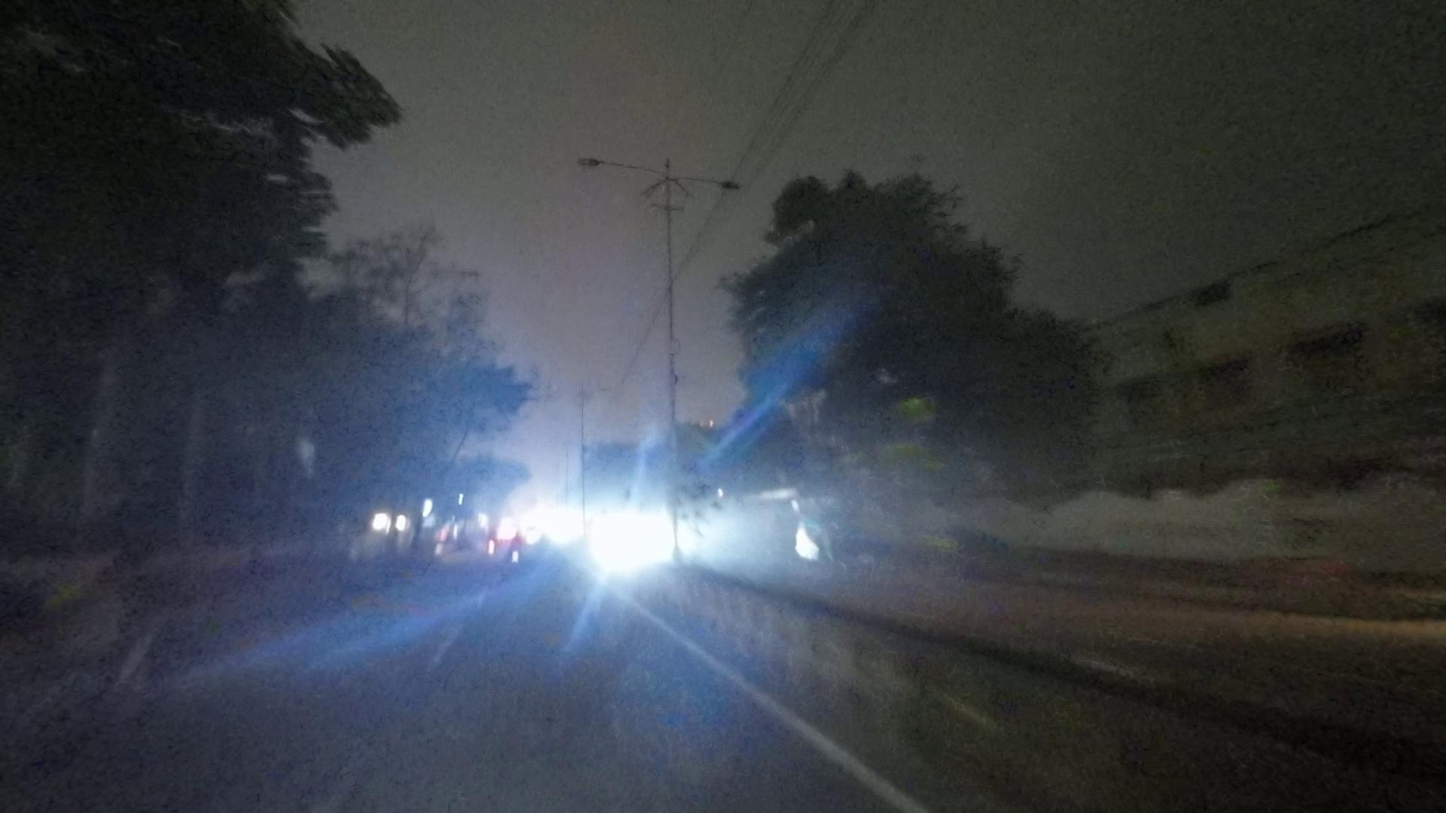streetlight: (576, 155, 665, 178), (683, 173, 741, 192)
